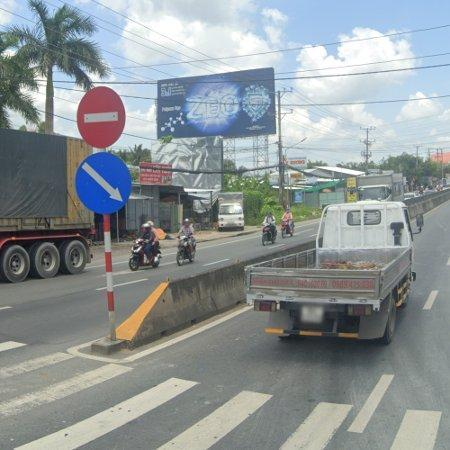crosswalks: (0, 335, 446, 450)
